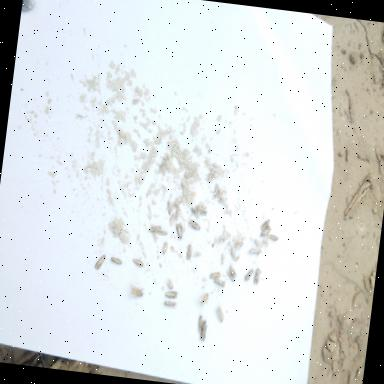pbw: (173, 222, 185, 240), (94, 252, 106, 270), (200, 318, 208, 342), (173, 192, 185, 208), (187, 218, 202, 230), (260, 224, 272, 238), (196, 314, 204, 334), (216, 306, 226, 322), (216, 188, 226, 204), (198, 291, 208, 307), (182, 168, 195, 180), (254, 267, 263, 284), (244, 268, 254, 282), (164, 289, 178, 299), (228, 264, 238, 278), (185, 243, 193, 260), (225, 270, 236, 282), (260, 218, 270, 231), (132, 256, 144, 266), (208, 167, 216, 182), (212, 278, 226, 286), (148, 224, 162, 232), (163, 300, 177, 308), (164, 200, 172, 214), (229, 248, 238, 260), (254, 238, 264, 248), (209, 270, 220, 279), (174, 206, 181, 220), (110, 256, 122, 264), (160, 154, 168, 166), (249, 246, 261, 254), (166, 277, 174, 289), (156, 228, 168, 236), (214, 183, 220, 198), (162, 241, 168, 254), (268, 234, 278, 241), (132, 96, 140, 104), (196, 206, 206, 212)
